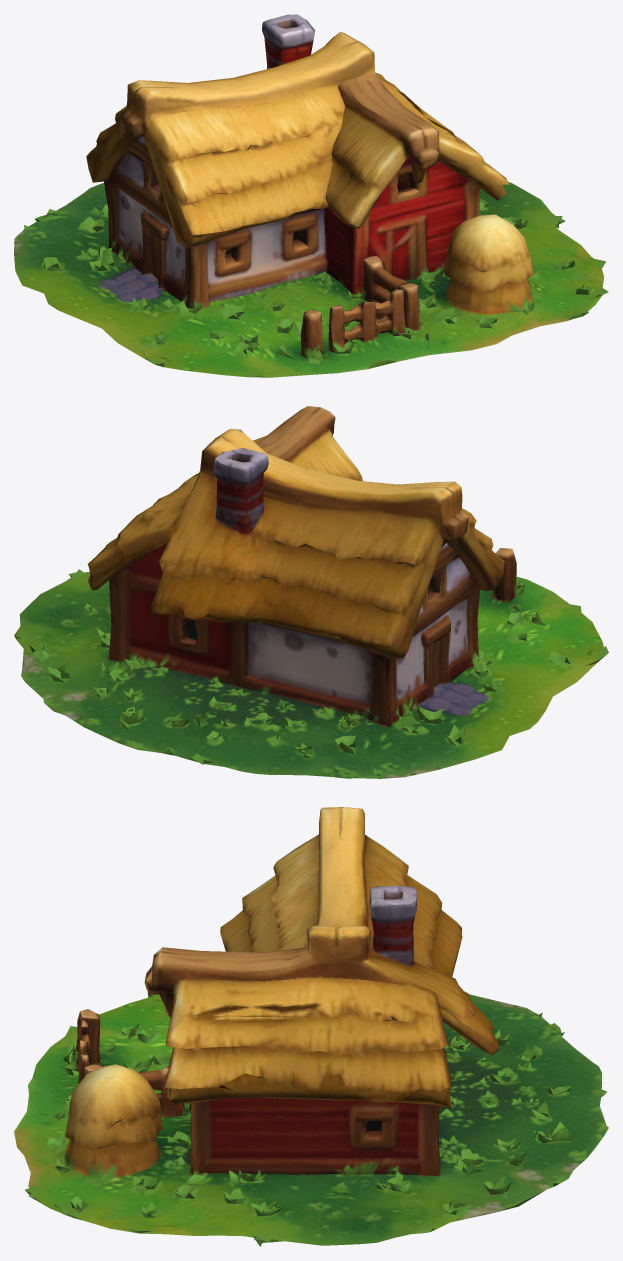
Rendered from village_plains_a.glb.
3 renders of one model, top to bottom at view 1: azimuth 30°, elevation 25°; view 2: azimuth 150°, elevation 25°; view 3: azimuth 270°, elevation 25°, orthographic. The views are drawn at different scales.
Parts seen in each view (by area): view 1: world; view 2: world; view 3: world.
Boxes of the visible parts, bbox=[...] form: world: bbox=[14, 14, 608, 377]; world: bbox=[14, 406, 608, 778]; world: bbox=[14, 807, 608, 1246].
Bounding box in the file's own units: 0.9701 × 0.4139 × 0.9377.
Materials: 1 (1 with a texture image).
